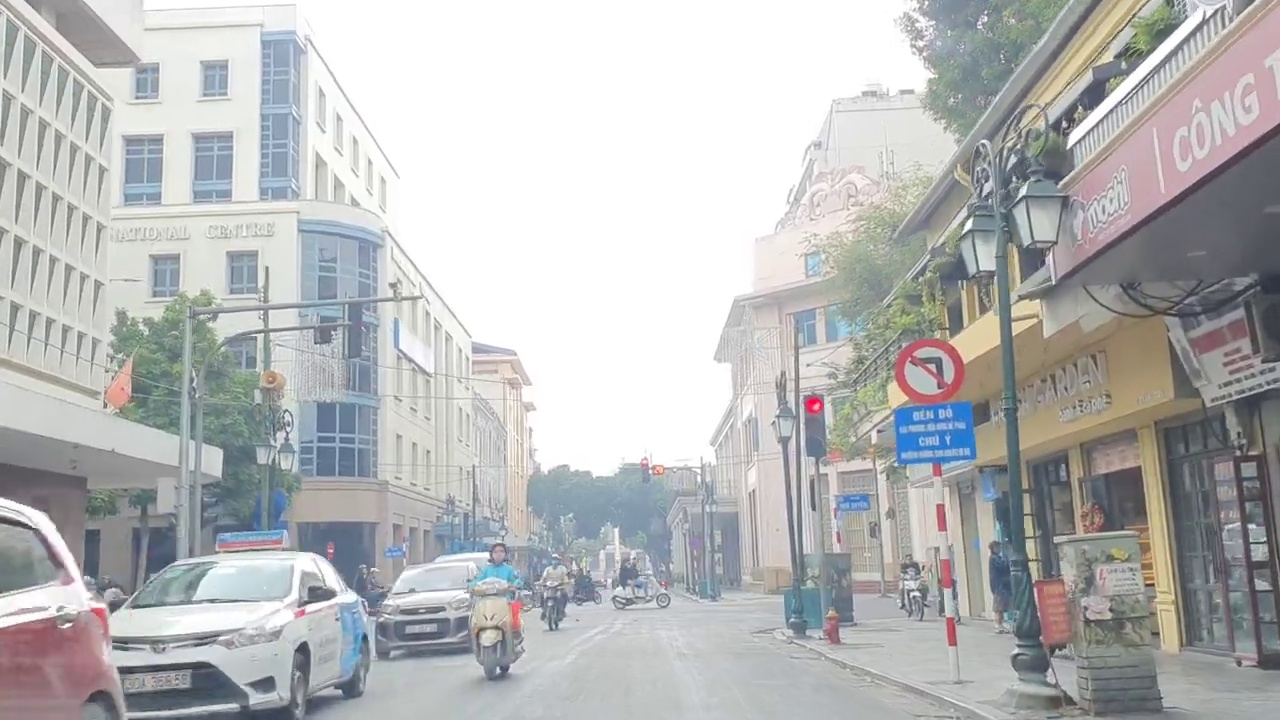person: (123, 669, 193, 691), (402, 625, 439, 634)
